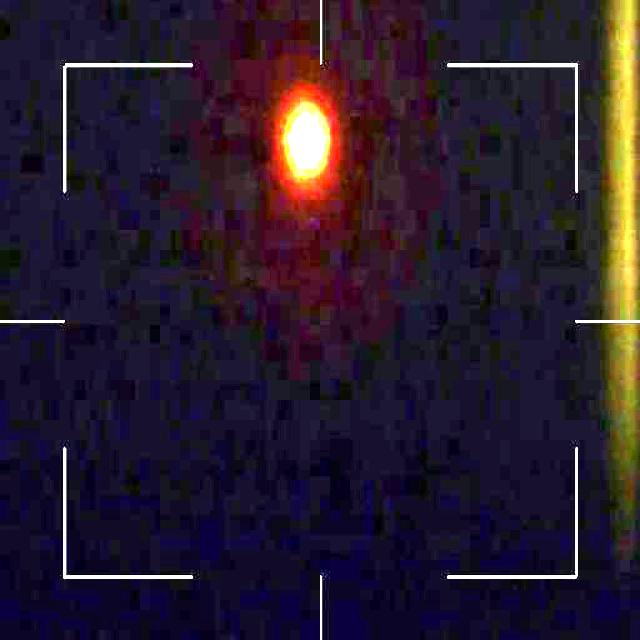bird: (280, 102, 329, 174)
